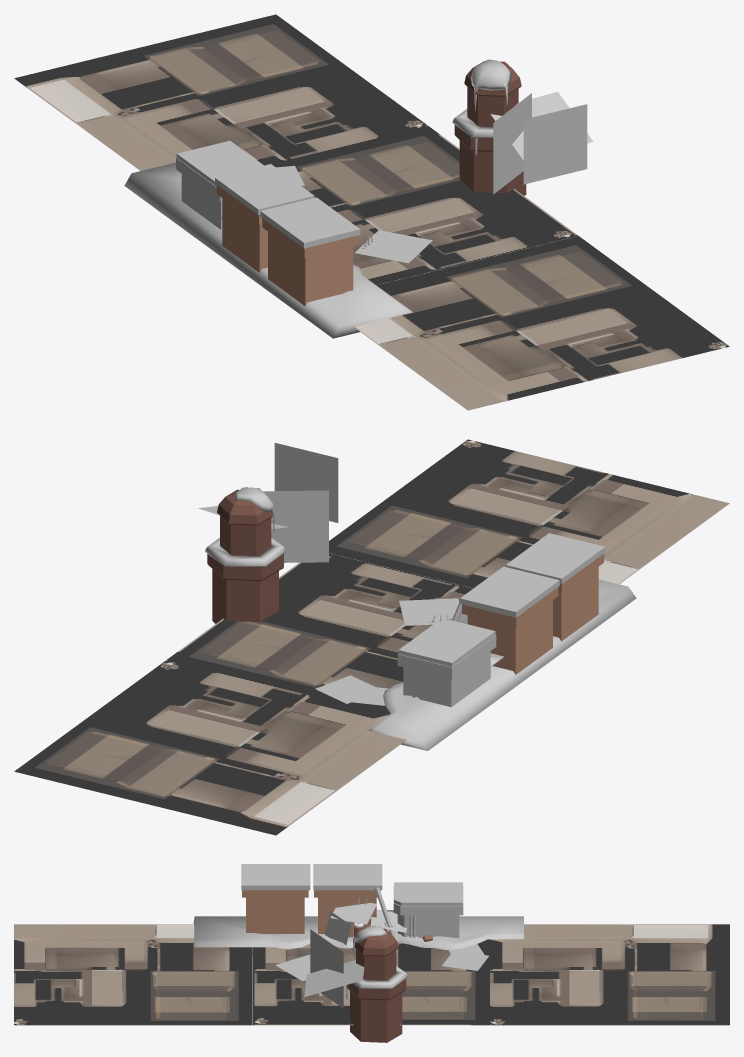
File: Stage_1004_Obj_01.fbx
The picture shows the model from 3 angles, top to bottom: view 1: azimuth 30°, elevation 25°; view 2: azimuth 150°, elevation 25°; view 3: azimuth 270°, elevation 25°; orthographic projection. The views are drawn at different scales.
Visible parts, largest first — view 1: Plane.004, Plane.003, Plane.001, Plane.002, Cube.003, tree01, Cube.028, Cube.025, Cube.014, Cylinder.001, tree01.002, Cube.002 (+5 smaller); view 2: Plane.003, Plane.004, Plane.001, Plane.002, Cube.014, tree01.002, Cylinder.001, Cube.001, Cube.025, tree01, Cube.028, Cylinder.004 (+5 smaller); view 3: Plane.003, Plane.004, Plane.001, Plane.002, Cylinder.001, Cube.003, Cube.001, Cube.028, Cube.025, Cylinder.004, Cube.002, tree01.002 (+10 smaller).
Part boxes in pixels (x1,y1,x2,y2): Plane.004: (354,236,729,410); Plane.003: (14,14,426,170); Plane.001: (264,125,577,284); Plane.002: (124,162,412,338); Cube.003: (262,218,358,305); tree01: (523,104,587,184); Cube.028: (260,197,360,248); Cube.025: (215,164,314,214); Cube.014: (216,185,267,272); Cylinder.001: (454,125,526,195); tree01.002: (493,93,531,194); Cube.002: (176,140,263,186); Plane.003: (14,661,406,835); Plane.004: (329,439,729,588); Plane.001: (165,553,472,715); Plane.002: (368,579,636,750); Cube.014: (462,587,558,674); tree01.002: (263,490,328,562); Cylinder.001: (207,553,283,623); Cube.001: (397,635,496,707); Cube.025: (460,566,559,617); tree01: (274,443,338,522); Cube.028: (505,533,605,584); Cylinder.004: (217,489,274,555); Plane.003: (491,924,729,1025); Plane.004: (14,924,252,1025); Plane.001: (253,939,491,1025); Plane.002: (193,916,523,955); Cylinder.001: (347,979,406,1042); Cube.003: (242,890,308,933); Cube.001: (393,885,463,938); Cube.028: (241,864,310,890); Cube.025: (313,864,382,890); Cylinder.004: (355,928,398,980); Cube.002: (394,882,462,905); tree01.002: (310,929,343,1008).
Size of the model in its own units: 3171 by 1187 by 7511.
